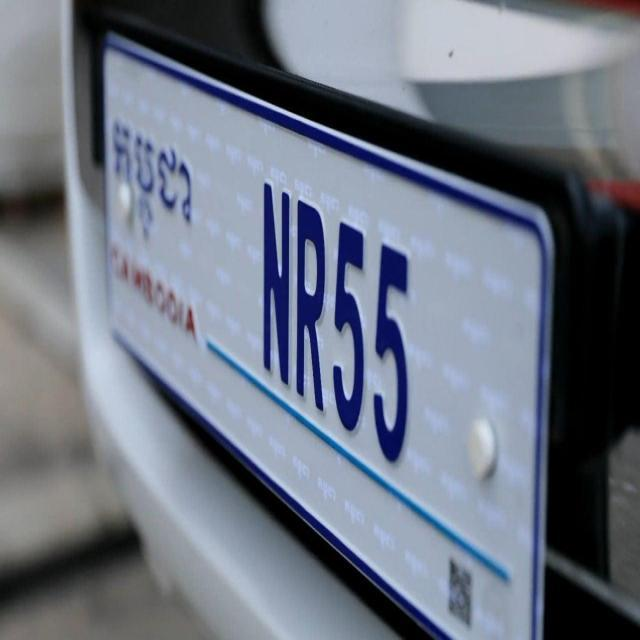Cambodia: (112, 120, 195, 244)
